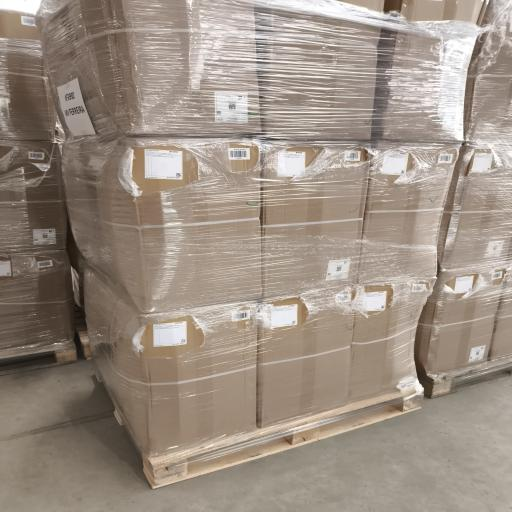pallet: (143, 391, 422, 488), (419, 361, 511, 398), (0, 344, 77, 375), (75, 305, 93, 359)
